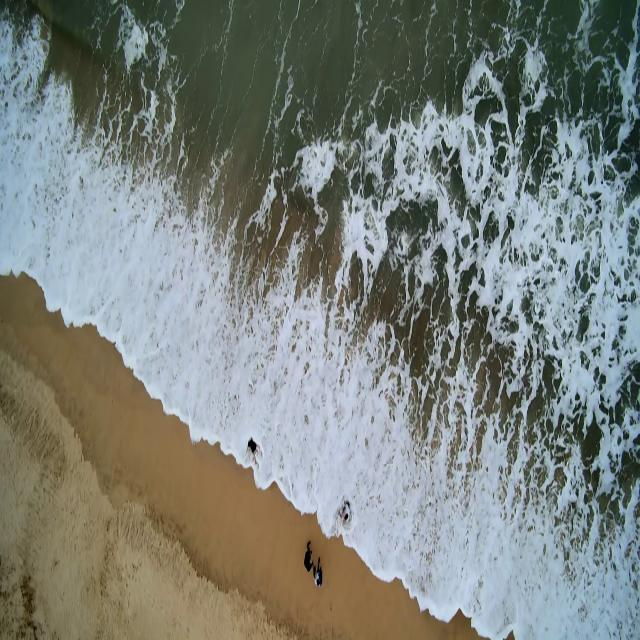dummy: (248, 437, 263, 466)
